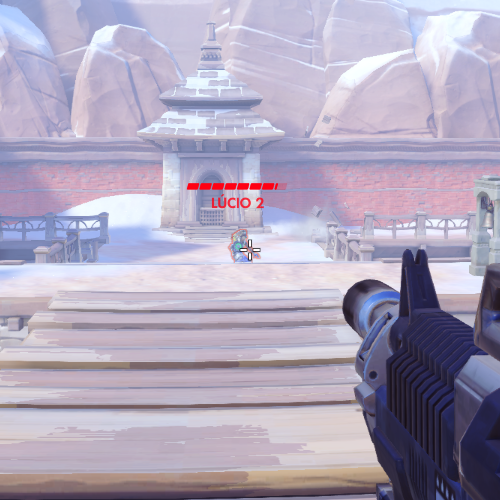hpbar: (186, 182, 288, 191)
